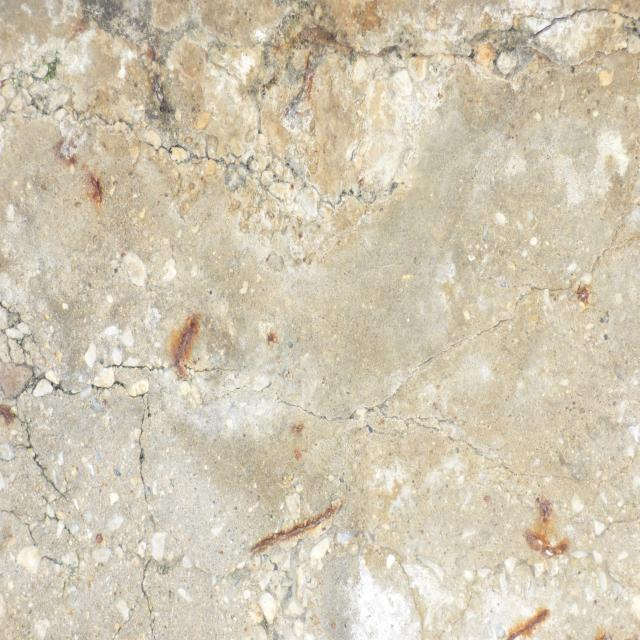corrosion: (228, 320, 336, 574), (494, 483, 626, 640), (154, 300, 222, 408), (41, 119, 116, 216)
